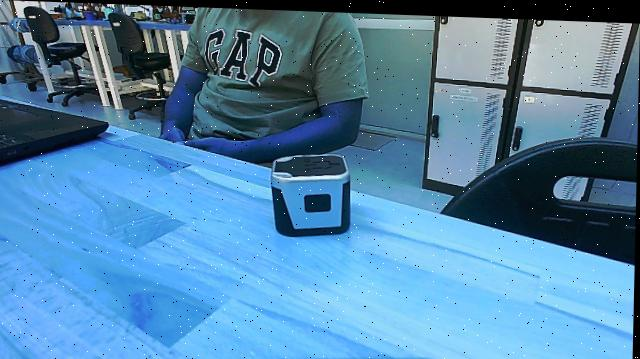adapter: (270, 149, 358, 239)
